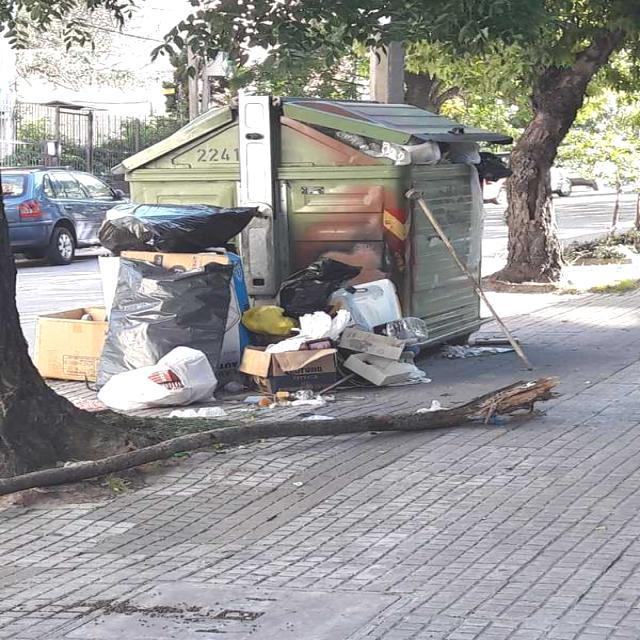high trash: (35, 205, 428, 418)
less trash: (442, 332, 512, 359), (416, 400, 445, 414), (302, 415, 335, 421)
